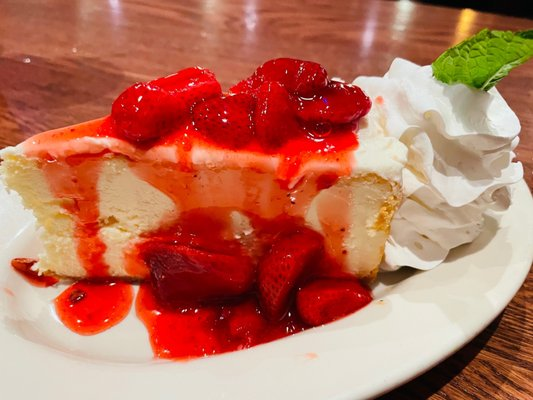curry: (4, 15, 533, 399)
